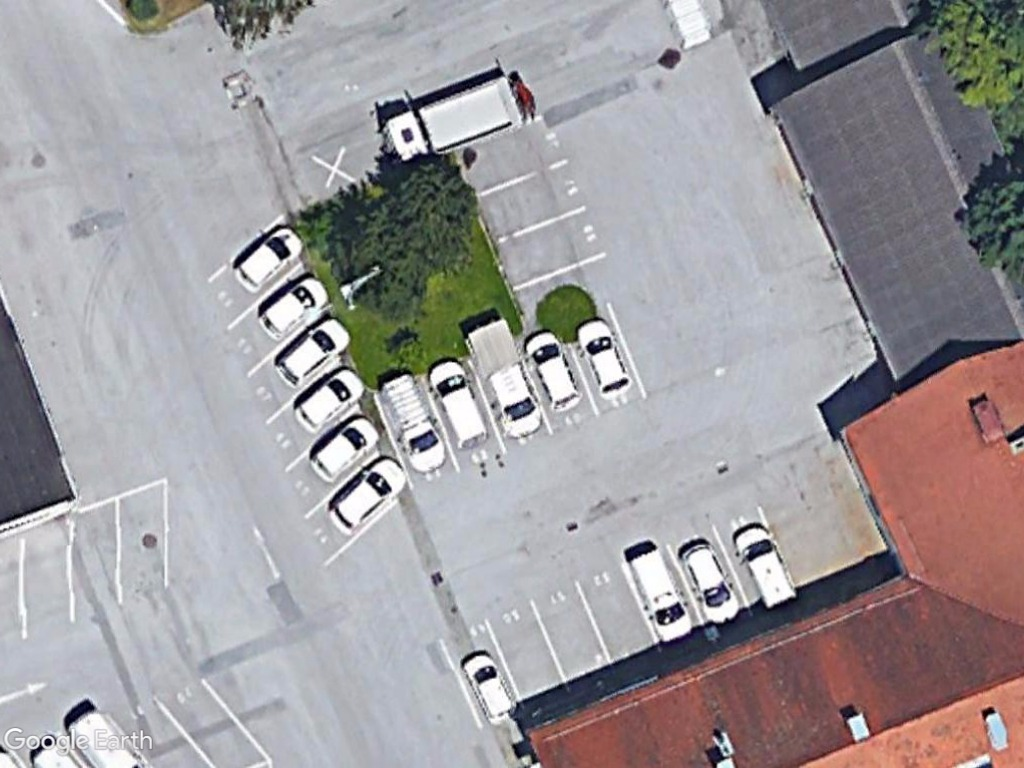car: (327, 448, 410, 534), (670, 530, 744, 626), (225, 213, 307, 296), (273, 308, 353, 389), (289, 359, 368, 436), (257, 267, 330, 346), (571, 313, 633, 404), (305, 408, 379, 483), (522, 324, 581, 416), (458, 646, 521, 730)
truck: (379, 68, 528, 167), (464, 312, 550, 442)
van: (375, 366, 451, 475), (622, 543, 693, 646), (728, 518, 801, 614), (425, 350, 489, 452)
